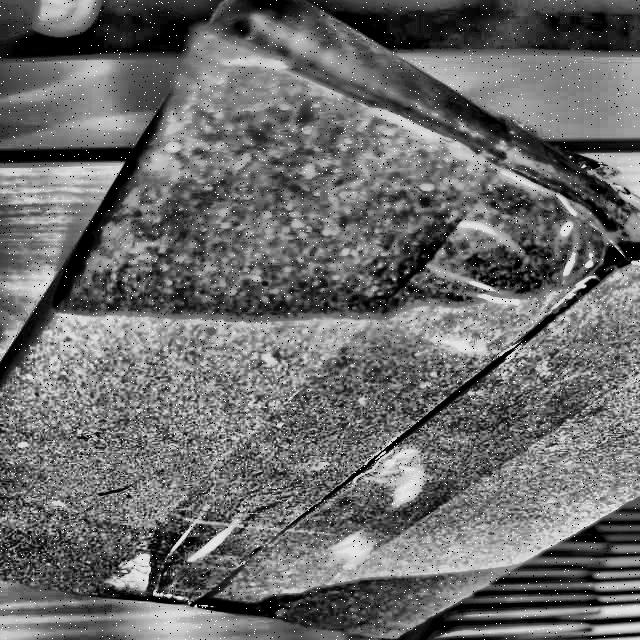box: (0, 1, 639, 640)
wet: (58, 1, 623, 318), (197, 568, 515, 640)
